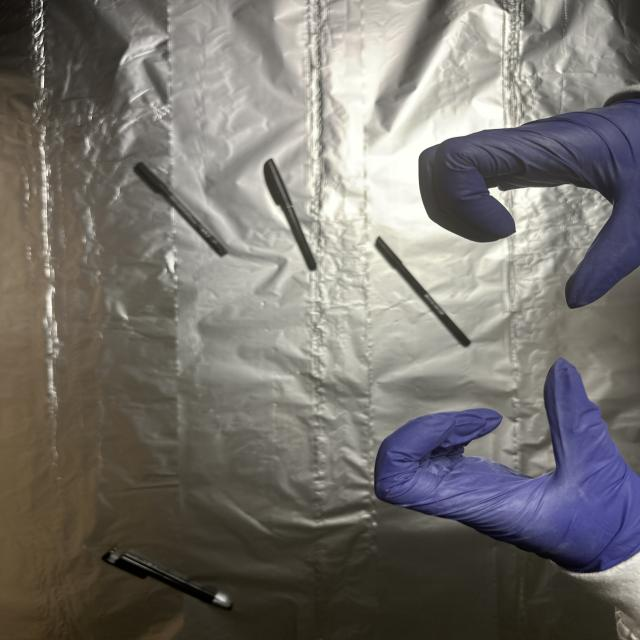gloves_contaminated: (374, 358, 640, 640), (418, 85, 640, 308)
